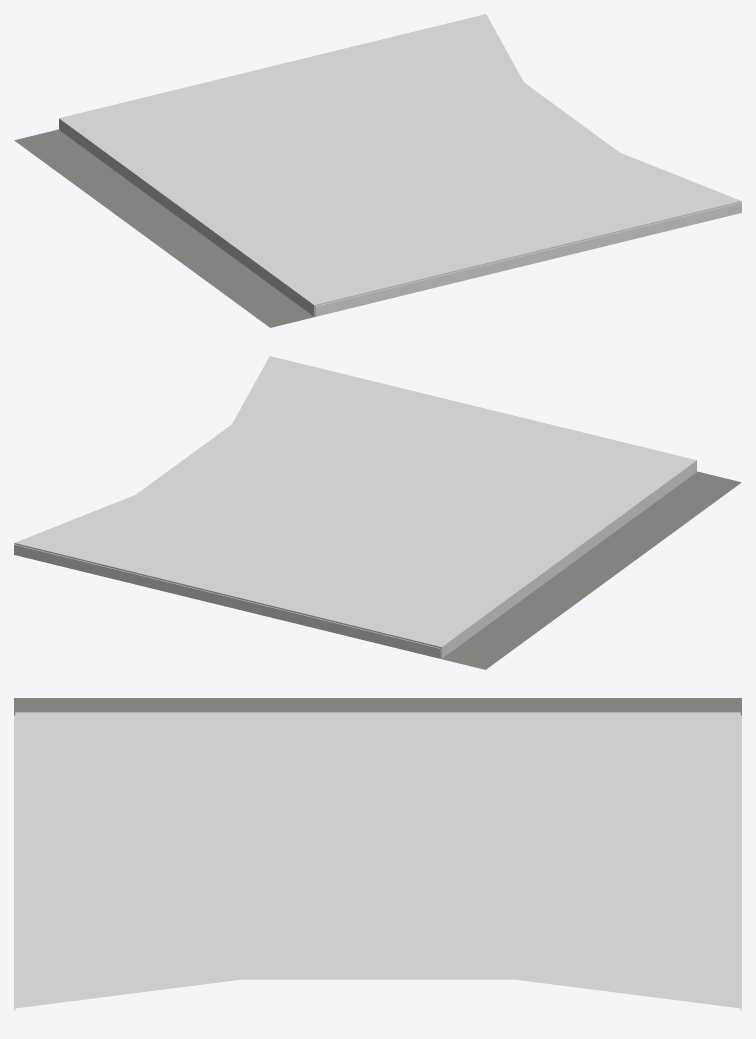
File: MMo_C_001_a_14x16.fbx
3 renders of one model, top to bottom at view 1: azimuth 30°, elevation 25°; view 2: azimuth 150°, elevation 25°; view 3: azimuth 270°, elevation 25°, orthographic. The views are drawn at different scales.
Parts seen in each view (by area): view 1: MMo_C_001_a_14x16; view 2: MMo_C_001_a_14x16; view 3: MMo_C_001_a_14x16.
Part boxes in pixels (bbox=[...]): MMo_C_001_a_14x16: bbox=[14, 14, 741, 327]; MMo_C_001_a_14x16: bbox=[14, 356, 741, 669]; MMo_C_001_a_14x16: bbox=[14, 698, 741, 1010].
Size of the model in its own units: 17 by 0.4 by 16.
